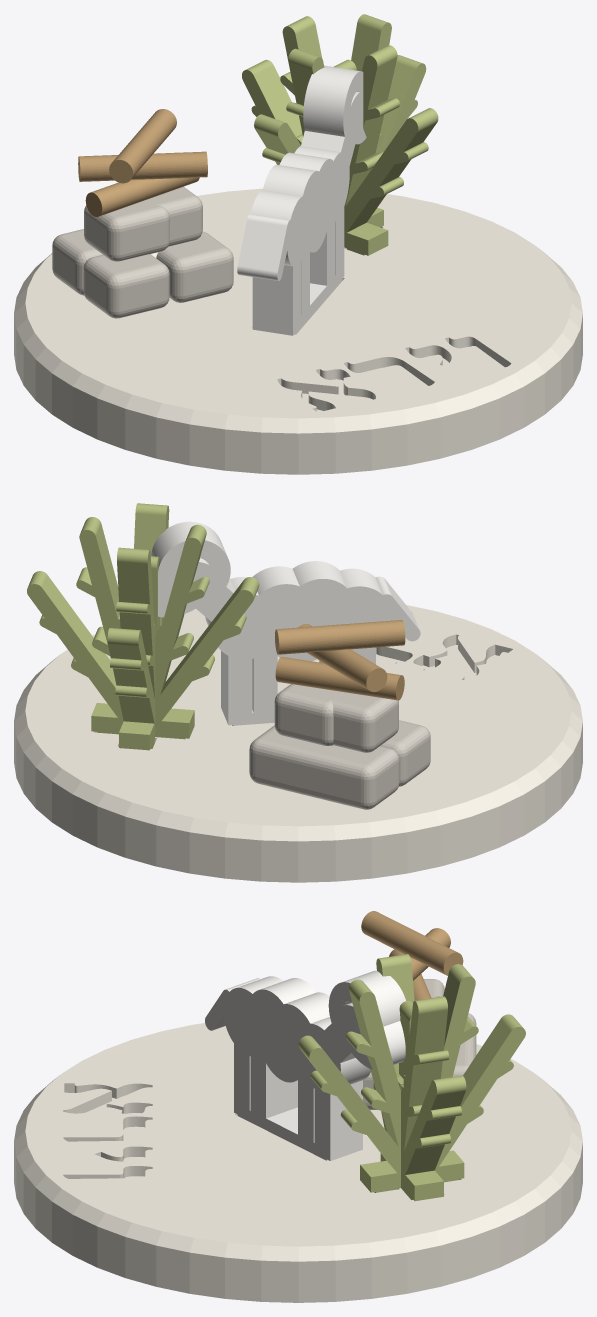
File: vayera.glb
3 renders of one model, top to bottom at view 1: azimuth 30°, elevation 25°; view 2: azimuth 150°, elevation 25°; view 3: azimuth 270°, elevation 25°, orthographic.
Visible parts, largest first — view 1: stage, ram, altar, thicket-b, wood, thicket-a; view 2: stage, ram, thicket-a, altar, thicket-b, wood; view 3: stage, ram, thicket-b, thicket-a, wood, altar.
Part boxes in pixels (x1,y1,x2,y2): stage: (14, 188, 582, 474); ram: (237, 65, 366, 335); altar: (52, 186, 233, 318); thicket-b: (242, 16, 438, 255); wood: (78, 109, 207, 216); thicket-a: (254, 14, 426, 227); stage: (14, 605, 582, 882); ram: (151, 521, 420, 725); thicket-a: (27, 517, 259, 739); altar: (249, 684, 430, 809); thicket-b: (107, 503, 169, 750); wood: (275, 620, 405, 700); stage: (14, 1023, 582, 1302); ram: (205, 970, 405, 1160); thicket-b: (298, 964, 525, 1192); thicket-a: (373, 954, 466, 1201); wood: (361, 911, 463, 1000); altar: (363, 979, 476, 1109).
Size of the model in its own units: 40 by 19.6 by 40.
